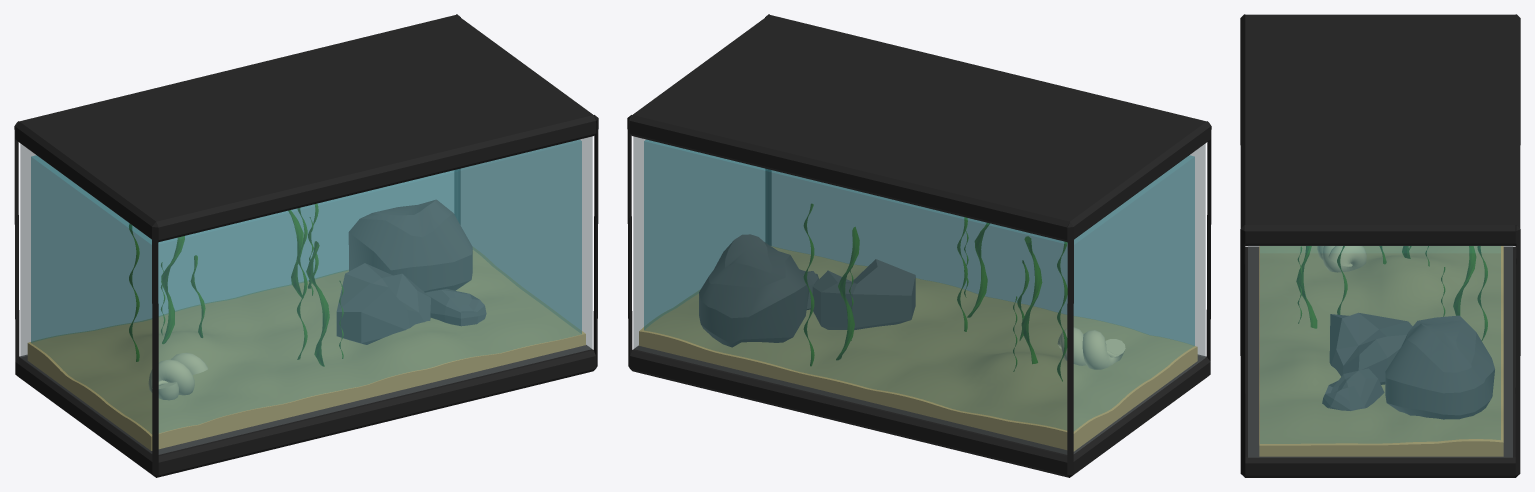
File: aquarium_splited.fbx
3 views of the same model, side by side, from view 1: azimuth 30°, elevation 25°; view 2: azimuth 150°, elevation 25°; view 3: azimuth 270°, elevation 25° (orthographic).
Visible parts, largest first — view 1: Glass, Water, Cage, Ground, polySurface35.006, polySurface35.004, polySurface35.005; view 2: Glass, Water, Cage, Ground, polySurface35.006, polySurface35.004, polySurface35.005; view 3: Cage, Glass, Water, Ground, polySurface35.006, polySurface35.004, polySurface35.005.
Part boxes in pixels (box(x1,y1,x2,y2)): Glass: box(20, 136, 592, 454); Water: box(31, 140, 581, 433); Cage: box(14, 14, 598, 477); Ground: box(27, 247, 585, 450); polySurface35.006: box(337, 200, 486, 344); polySurface35.004: box(129, 204, 343, 366); polySurface35.005: box(148, 353, 207, 399); Glass: box(633, 136, 1205, 454); Water: box(644, 140, 1194, 430); Cage: box(627, 14, 1211, 477); Ground: box(639, 246, 1197, 451); polySurface35.006: box(699, 234, 915, 347); polySurface35.004: box(804, 204, 1067, 381); polySurface35.005: box(1058, 327, 1125, 369); Cage: box(1240, 14, 1520, 477); Glass: box(1248, 246, 1512, 457); Water: box(1260, 246, 1500, 443); Ground: box(1259, 246, 1503, 456); polySurface35.006: box(1322, 313, 1494, 419); polySurface35.004: box(1296, 246, 1487, 340); polySurface35.005: box(1317, 246, 1366, 272).
Bounding box in the file's own units: 12.07 × 6.63 × 6.66.
